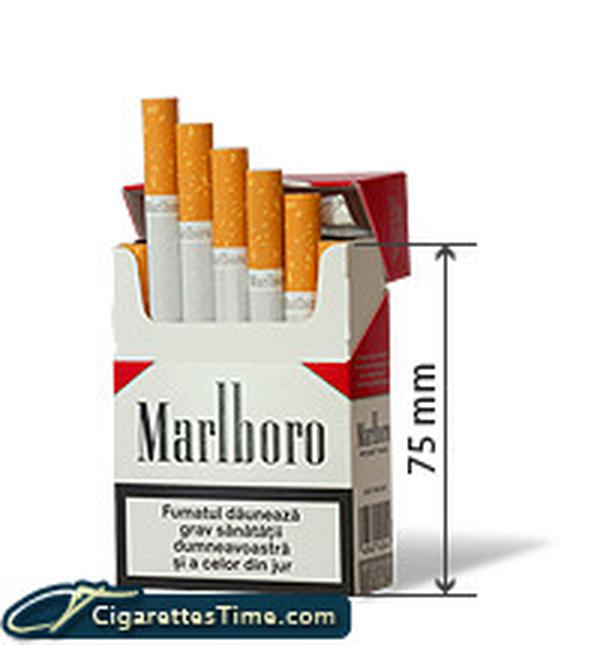marlboro_red: (114, 254, 352, 589)
